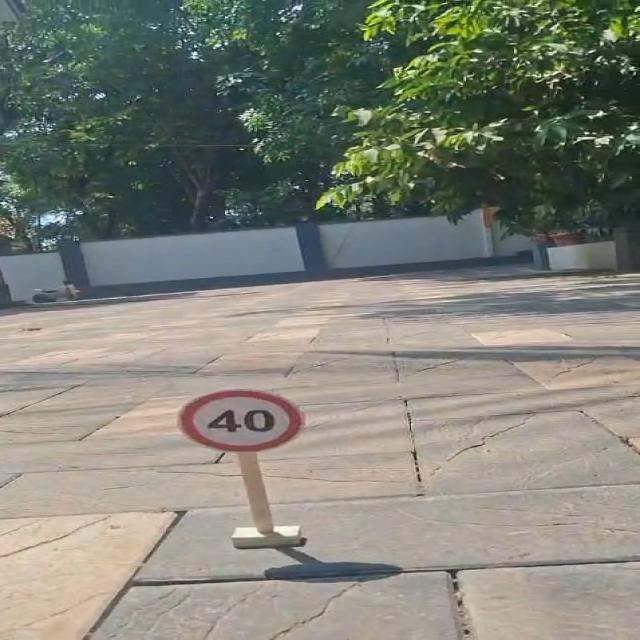Speed40: (171, 385, 312, 455)
